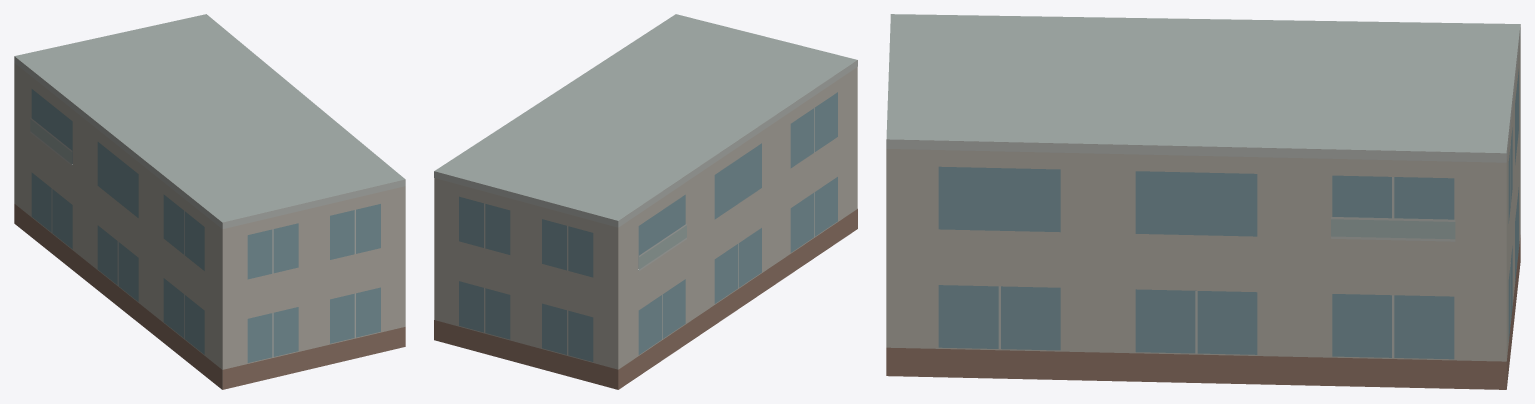
Rendered from survey-upis-32711661.glb.
The picture shows the model from 3 angles, left to right: view 1: azimuth 30°, elevation 25°; view 2: azimuth 150°, elevation 25°; view 3: azimuth 270°, elevation 25°; orthographic projection. The views are drawn at different scales.
Parts seen in each view (by area): view 1: survey-upis-32711661.tmp; view 2: survey-upis-32711661.tmp; view 3: survey-upis-32711661.tmp.
Boxes of the visible parts, x1,y1,x2,y2 form: survey-upis-32711661.tmp: [14, 14, 405, 389]; survey-upis-32711661.tmp: [434, 14, 857, 389]; survey-upis-32711661.tmp: [886, 14, 1520, 389].
Size of the model in its own units: 7.71 by 6.1 by 14.83.
